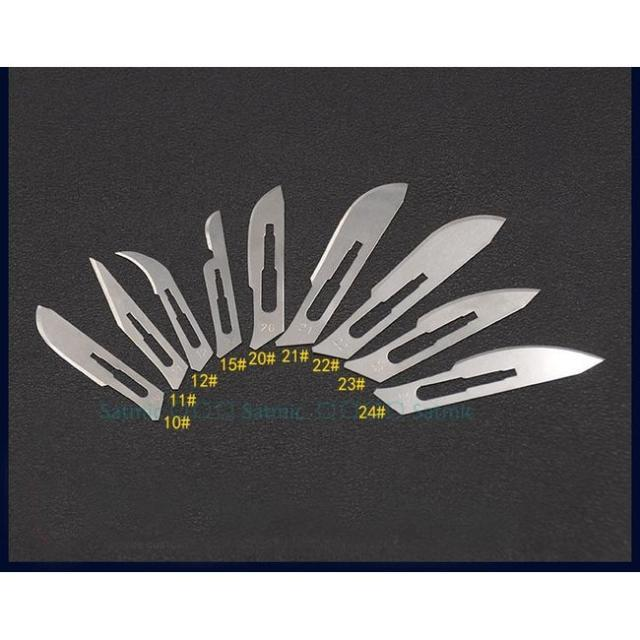Surgical blade: (314, 202, 524, 360), (18, 285, 178, 433), (338, 274, 546, 384), (288, 160, 416, 336), (372, 336, 614, 422), (74, 251, 196, 402), (114, 245, 213, 373), (240, 179, 290, 353), (194, 206, 246, 364)
